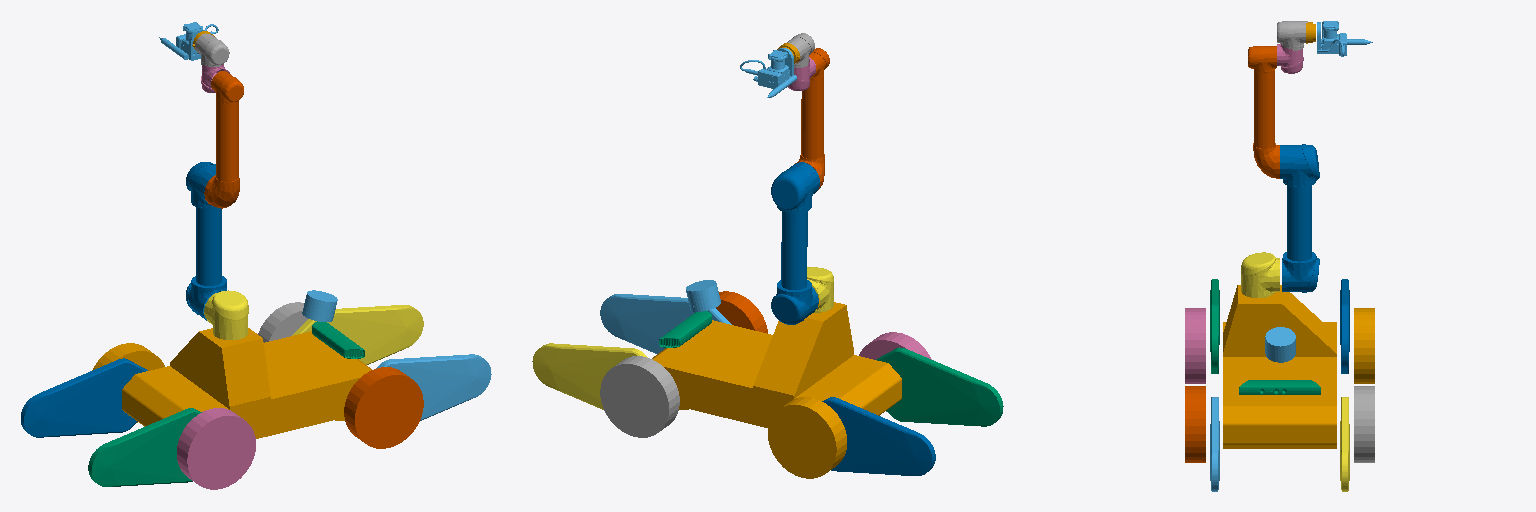
URDF robot description (rosi):
<?xml version="1.0" encoding="utf-8"?>
<!-- =================================================================================== -->
<!-- |    This document was autogenerated by xacro from [local-path]/ros/rosiSim_catkin_ws/src/rosi_defy/urdf/rosi.urdf.xacro | -->
<!-- |    EDITING THIS FILE BY HAND IS NOT RECOMMENDED                                 | -->
<!-- =================================================================================== -->
<!-- ROSI URDF MODEL -->
<robot name="rosi" xmlns:xacro="http://www.ros.org/wiki/xacro">
  <!-- ============ Defining  links ===============-->
  <!-- Defining base link -->
  <link name="base_link">
    <origin rpy="0 0 0" xyz="0 0 0"/>
    <visual>
      <geometry>
        <mesh filename="package://rosi_defy/urdf/meshes/rosi_base.stl"/>
      </geometry>
    </visual>
  </link>
  <link name="arm_1">
    <visual>
      <geometry>
        <mesh filename="package://rosi_defy/urdf/meshes/arm.stl"/>
      </geometry>
      <origin rpy="0 0 0" xyz="0.1805 0 0"/>
    </visual>
  </link>
  <link name="arm_2">
    <visual>
      <geometry>
        <mesh filename="package://rosi_defy/urdf/meshes/arm.stl"/>
      </geometry>
      <origin rpy="0 0 3.14" xyz="-0.1805 0 0"/>
    </visual>
  </link>
  <link name="arm_3">
    <visual>
      <geometry>
        <mesh filename="package://rosi_defy/urdf/meshes/arm.stl"/>
      </geometry>
      <origin rpy="0 0 0" xyz="0.1805 0 0"/>
    </visual>
  </link>
  <link name="arm_4">
    <visual>
      <geometry>
        <mesh filename="package://rosi_defy/urdf/meshes/arm.stl"/>
      </geometry>
      <origin rpy="0 0 3.14" xyz="-0.1805 0 0"/>
    </visual>
  </link>
  <link name="wheel_1">
    <visual>
      <geometry>
        <mesh filename="package://rosi_defy/urdf/meshes/wheel.stl"/>
      </geometry>
      <origin rpy="0 0 0" xyz="0 0 0"/>
    </visual>
  </link>
  <link name="wheel_2">
    <visual>
      <geometry>
        <mesh filename="package://rosi_defy/urdf/meshes/wheel.stl"/>
      </geometry>
      <origin rpy="0 0 0" xyz="0 0 0"/>
    </visual>
  </link>
  <link name="wheel_3">
    <visual>
      <geometry>
        <mesh filename="package://rosi_defy/urdf/meshes/wheel.stl"/>
      </geometry>
      <origin rpy="0 0 0" xyz="0 0 0"/>
    </visual>
  </link>
  <link name="wheel_4">
    <visual>
      <geometry>
        <mesh filename="package://rosi_defy/urdf/meshes/wheel.stl"/>
      </geometry>
      <origin rpy="0 0 0" xyz="0 0 0"/>
    </visual>
  </link>
  <!-- Defining sensors links -->
  <link name="velodyne">
    <visual>
      <geometry>
        <mesh filename="package://rosi_defy/urdf/meshes/velodyne.stl"/>
      </geometry>
    </visual>
  </link>
  <link name="kinect">
    <visual>
      <geometry>
        <mesh filename="package://rosi_defy/urdf/meshes/kinect.stl"/>
      </geometry>
      <origin rpy="-1.57 0 1.57" xyz="-0.023 0 0"/>
    </visual>
  </link>
  <link name="ur5_link_2">
    <visual>
      <geometry>
        <mesh filename="package://rosi_defy/urdf/meshes/ur5_link_2.stl"/>
      </geometry>
      <origin rpy="0 0 1.57" xyz="0 0 0.070"/>
    </visual>
  </link>
  <link name="ur5_link_3">
    <visual>
      <geometry>
        <mesh filename="package://rosi_defy/urdf/meshes/ur5_link_3.stl"/>
      </geometry>
      <origin rpy="1.57 0 1.57" xyz="0.212 0 0.064"/>
    </visual>
  </link>
  <link name="ur5_link_4">
    <visual>
      <geometry>
        <mesh filename="package://rosi_defy/urdf/meshes/ur5_link_4.stl"/>
      </geometry>
      <origin rpy="1.57 0 1.57" xyz="0.187 0 -0.058"/>
    </visual>
  </link>
  <link name="ur5_link_5">
    <visual>
      <geometry>
        <mesh filename="package://rosi_defy/urdf/meshes/ur5_link_5.stl"/>
      </geometry>
      <origin rpy="1.57 0 1.57" xyz="0 0 0.032"/>
    </visual>
  </link>
  <link name="ur5_link_6">
    <visual>
      <geometry>
        <mesh filename="package://rosi_defy/urdf/meshes/ur5_link_6.stl"/>
      </geometry>
      <origin rpy="0 0 1.57" xyz="0 0 0.042"/>
    </visual>
  </link>
  <link name="ur5_link_7">
    <visual>
      <geometry>
        <mesh filename="package://rosi_defy/urdf/meshes/ur5_link_7.stl"/>
      </geometry>
      <origin rpy="1.57 0 0" xyz="0 0 0.077"/>
    </visual>
  </link>
  <!-- Defining UR5 tool link -->
  <link name="tool_pointer">
    <visual>
      <geometry>
        <mesh filename="package://rosi_defy/urdf/meshes/tool_pointer.stl"/>
      </geometry>
      <origin rpy="1.57 0 -1.57" xyz="0 0 0"/>
    </visual>
  </link>
  <!-- ============ Defining JOINTS ===============-->
  <joint name="joint_arm_1" type="continuous">
    <parent link="base_link"/>
    <child link="arm_1"/>
    <origin rpy="1.57 0 0" xyz="0.3152 -0.2210 -0.0993"/>
    <axis xyz="0 0 1"/>
  </joint>
  <joint name="joint_arm_2" type="continuous">
    <parent link="base_link"/>
    <child link="arm_2"/>
    <origin rpy="1.57 0 0" xyz="-0.3152 -0.2210 -0.0993"/>
    <axis xyz="0 0 1"/>
  </joint>
  <joint name="joint_arm_3" type="continuous">
    <parent link="base_link"/>
    <child link="arm_3"/>
    <origin rpy="-1.57 0 0" xyz="0.3152 0.2210 -0.0993"/>
    <axis xyz="0 0 1"/>
  </joint>
  <joint name="joint_arm_4" type="continuous">
    <parent link="base_link"/>
    <child link="arm_4"/>
    <origin rpy="-1.57 0 0" xyz="-0.3152 0.2210 -0.0993"/>
    <axis xyz="0 0 1"/>
  </joint>
  <joint name="joint_wheel_1" type="continuous">
    <parent link="base_link"/>
    <child link="wheel_1"/>
    <origin rpy="1.57 0 0" xyz="0.3152 -0.2880 -0.0993"/>
    <axis xyz="0 0 1"/>
  </joint>
  <joint name="joint_wheel_2" type="continuous">
    <parent link="base_link"/>
    <child link="wheel_2"/>
    <origin rpy="1.57 0 0" xyz="-0.3152 -0.2880 -0.0993"/>
    <axis xyz="0 0 1"/>
  </joint>
  <joint name="joint_wheel_3" type="continuous">
    <parent link="base_link"/>
    <child link="wheel_3"/>
    <origin rpy="-1.57 3.14 0" xyz="0.3152 0.2880 -0.0993"/>
    <axis xyz="0 0 1"/>
  </joint>
  <joint name="joint_wheel_4" type="continuous">
    <parent link="base_link"/>
    <child link="wheel_4"/>
    <origin rpy="-1.57 3.14 0" xyz="-0.3152 0.2880 -0.0993"/>
    <axis xyz="0 0 1"/>
  </joint>
  <!-- Defining ur5 joints -->
  <joint name="joint_ur5_j1" type="revolute">
    <parent link="base_link"/>
    <child link="ur5_link_2"/>
    <origin rpy="0 0 -1.57" xyz="-0.138 -0.067 0.184"/>
    <limit effort="50" lower="-6.28" upper="6.28" velocity="1.57"/>
    <axis xyz="0 0 1"/>
  </joint>
  <joint name="joint_ur5_j2" type="revolute">
    <parent link="ur5_link_2"/>
    <child link="ur5_link_3"/>
    <origin rpy="0 -1.57 0" xyz="-0.070 0 0.066"/>
    <limit effort="50" lower="-6.28" upper="6.28" velocity="1.57"/>
    <axis xyz="0 0 1"/>
  </joint>
  <joint name="joint_ur5_j3" type="revolute">
    <parent link="ur5_link_3"/>
    <child link="ur5_link_4"/>
    <origin rpy="0 0 0" xyz="0.425 0 0"/>
    <limit effort="50" lower="-6.28" upper="6.28" velocity="1.57"/>
    <axis xyz="0 0 1"/>
  </joint>
  <joint name="joint_ur5_j4" type="revolute">
    <parent link="ur5_link_4"/>
    <child link="ur5_link_5"/>
    <origin rpy="0 0 0" xyz="0.392 0 0"/>
    <limit effort="50" lower="-6.28" upper="6.28" velocity="1.57"/>
    <axis xyz="0 0 1"/>
  </joint>
  <joint name="joint_ur5_j5" type="revolute">
    <parent link="ur5_link_5"/>
    <child link="ur5_link_6"/>
    <origin rpy="0 1.57 0" xyz="0.045 0 0.039"/>
    <limit effort="50" lower="-6.28" upper="6.28" velocity="1.57"/>
    <axis xyz="0 0 1"/>
  </joint>
  <joint name="joint_ur5_j6" type="revolute">
    <parent link="ur5_link_6"/>
    <child link="ur5_link_7"/>
    <origin rpy="0 -1.57 0" xyz="0.014 0 0.049"/>
    <limit effort="50" lower="-6.28" upper="6.28" velocity="1.57"/>
    <axis xyz="0 0 1"/>
  </joint>
  <!-- Defining tool joint -->
  <joint name="joint_l7_tool" type="fixed">
    <parent link="ur5_link_7"/>
    <child link="tool_pointer"/>
    <origin rpy="0 0 3.14" xyz="-0.018 0.034 0.195 "/>
  </joint>
  <!-- Defining sensor joints -->
  <joint name="joint_velodyne" type="fixed">
    <parent link="base_link"/>
    <child link="velodyne"/>
    <origin rpy="0 0.26 0" xyz="0.242 0.002 0.1655"/>
  </joint>
  <joint name="joint_kinect" type="revolute">
    <parent link="base_link"/>
    <child link="kinect"/>
    <origin rpy="1.57 1.57 0" xyz="0.3 0 0.009"/>
    <limit effort="30" lower="-0.79" upper="0.79" velocity="0.79"/>
    <axis xyz="0 0 1"/>
  </joint>
</robot>

--- What the picture shows (computed from the rendered views, not written in the file) ---
Views: 3 orthographic renders of the robot side by side, from view 1: azimuth 30°, elevation 25°; view 2: azimuth 150°, elevation 25°; view 3: azimuth 270°, elevation 25°.
Model rosi with 18 links and 17 joints (7 revolute, 8 continuous, 2 fixed), rooted at base_link, posed every joint at zero.
Links seen in each view (by area): view 1: base_link, arm_4, arm_2, wheel_1, wheel_2, arm_1, arm_3, ur5_link_3, ur5_link_4, ur5_link_2, wheel_3, wheel_4 (+4 smaller); view 2: base_link, arm_2, ur5_link_3, arm_4, wheel_3, wheel_4, arm_3, arm_1, ur5_link_4, tool_pointer, wheel_1, wheel_2 (+4 smaller); view 3: base_link, ur5_link_3, ur5_link_4, wheel_1, wheel_3, wheel_2, wheel_4, ur5_link_2, kinect, tool_pointer, velodyne, arm_2 (+5 smaller).
Boxes of the visible links, x1=… form: base_link: x1=122, y1=328, x2=371, y2=438; arm_4: x1=21, y1=358, x2=147, y2=437; arm_2: x1=88, y1=408, x2=201, y2=486; wheel_1: x1=344, y1=367, x2=423, y2=448; wheel_2: x1=177, y1=408, x2=255, y2=489; arm_1: x1=376, y1=354, x2=491, y2=420; arm_3: x1=292, y1=305, x2=423, y2=364; ur5_link_3: x1=186, y1=162, x2=226, y2=320; ur5_link_4: x1=204, y1=71, x2=243, y2=208; ur5_link_2: x1=204, y1=290, x2=248, y2=339; wheel_3: x1=258, y1=302, x2=307, y2=342; wheel_4: x1=92, y1=343, x2=164, y2=422; base_link: x1=652, y1=298, x2=901, y2=427; arm_2: x1=876, y1=347, x2=1003, y2=426; ur5_link_3: x1=771, y1=162, x2=819, y2=324; arm_4: x1=822, y1=397, x2=935, y2=475; wheel_3: x1=600, y1=356, x2=679, y2=437; wheel_4: x1=768, y1=397, x2=846, y2=478; arm_3: x1=532, y1=343, x2=647, y2=409; arm_1: x1=600, y1=294, x2=731, y2=353; ur5_link_4: x1=795, y1=48, x2=829, y2=189; tool_pointer: x1=740, y1=48, x2=796, y2=97; wheel_1: x1=716, y1=291, x2=767, y2=333; wheel_2: x1=859, y1=332, x2=931, y2=411; base_link: x1=1223, y1=285, x2=1336, y2=448; ur5_link_3: x1=1280, y1=144, x2=1319, y2=292; ur5_link_4: x1=1248, y1=46, x2=1279, y2=178; wheel_1: x1=1185, y1=386, x2=1205, y2=462; wheel_3: x1=1354, y1=386, x2=1374, y2=462; wheel_2: x1=1185, y1=308, x2=1205, y2=383; wheel_4: x1=1354, y1=308, x2=1374, y2=383; ur5_link_2: x1=1241, y1=252, x2=1279, y2=297; kinect: x1=1239, y1=380, x2=1320, y2=394; tool_pointer: x1=1317, y1=21, x2=1372, y2=56; velodyne: x1=1265, y1=327, x2=1295, y2=362; arm_2: x1=1210, y1=279, x2=1219, y2=373.
Size in the robot's own frame: 1.5 by 0.6462 by 1.43 metres.
Meshes: 12 distinct files referenced, 18 mesh visuals loaded (12 binary STL).
